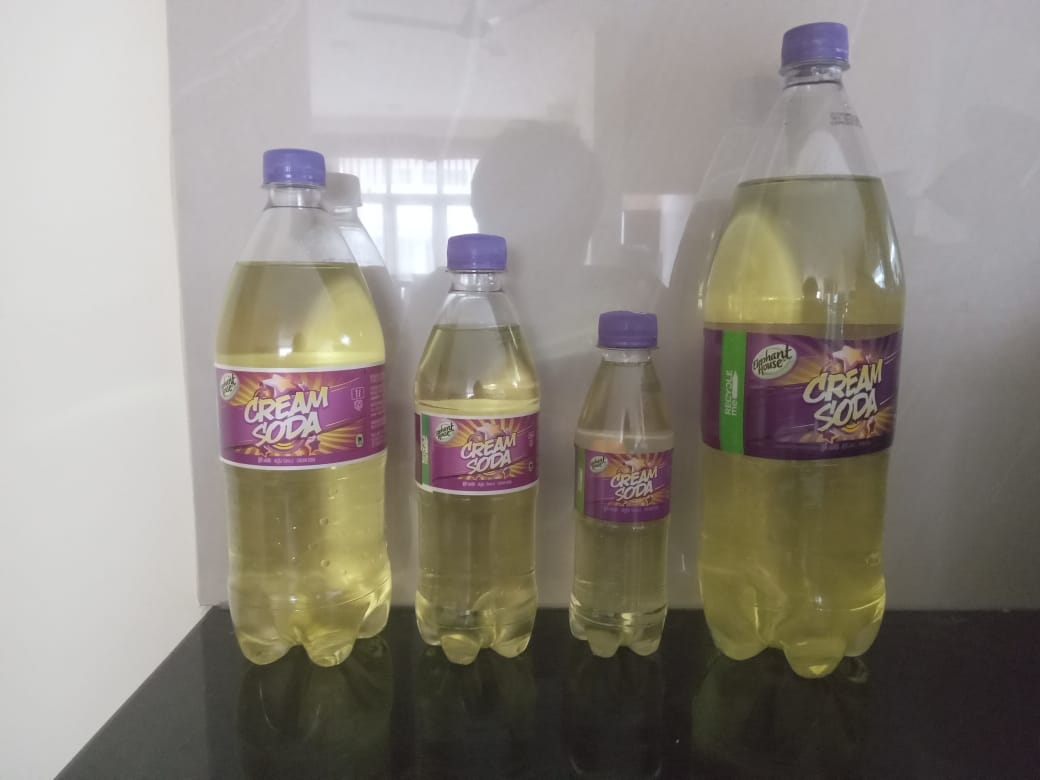L: (699, 21, 912, 683)
M: (211, 146, 391, 670)
S: (404, 233, 538, 671)
Xs: (565, 306, 679, 668)
